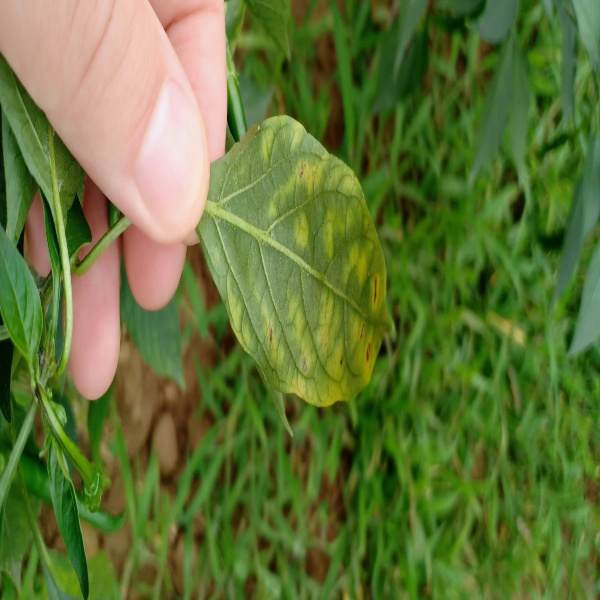Improper medication: (219, 120, 395, 408)
